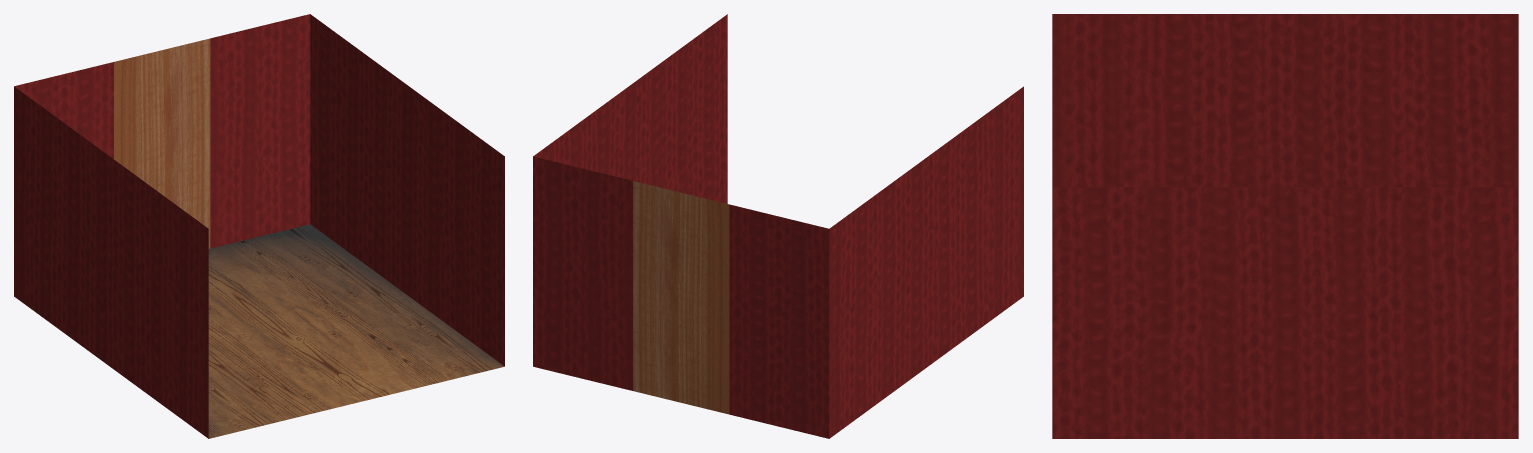
The model's file is room.fbx.
3 renders of one model, left to right at view 1: azimuth 30°, elevation 25°; view 2: azimuth 150°, elevation 25°; view 3: azimuth 270°, elevation 25°, orthographic. The views are drawn at different scales.
Parts seen in each view (by area): view 1: room; view 2: room; view 3: room.
Boxes of the visible parts, box(x1,y1,x2,y2) form: room: box(14, 14, 504, 438); room: box(533, 14, 1023, 438); room: box(1052, 14, 1518, 438).
Size of the model in its own units: 387 by 263 by 441.
